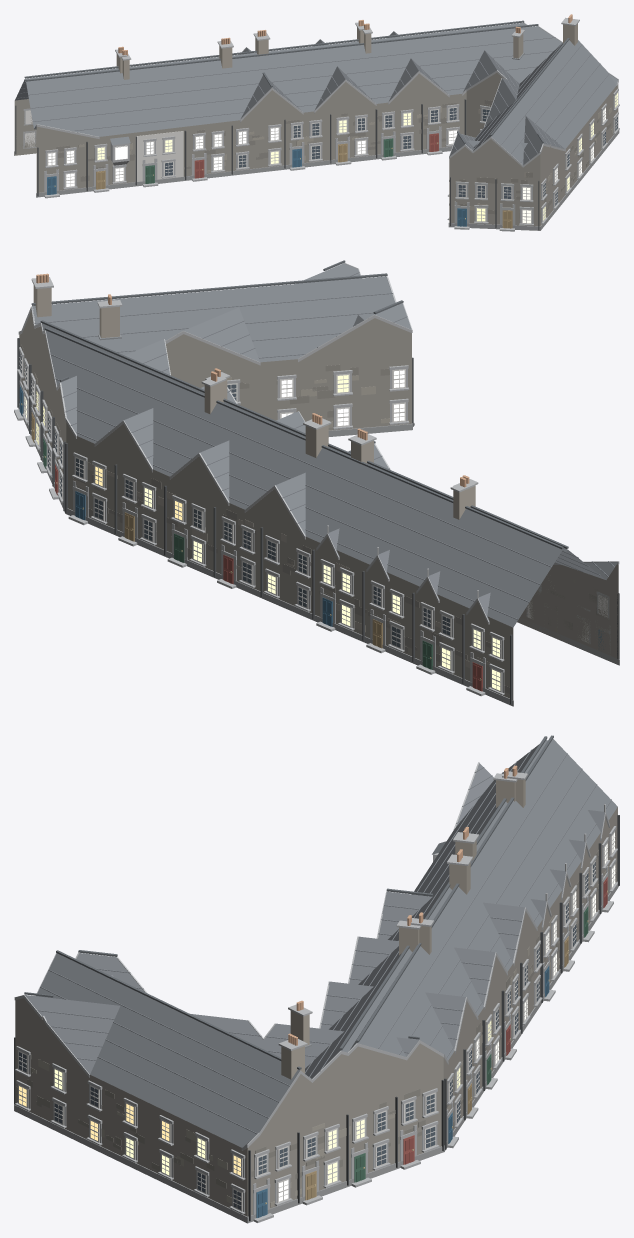
The picture shows the model from 3 angles, top to bottom: view 1: azimuth 30°, elevation 25°; view 2: azimuth 150°, elevation 25°; view 3: azimuth 270°, elevation 25°; orthographic projection. The views are drawn at different scales.
Parts seen in each view (by area): view 1: slate, rubble, dress_dark, frame, windows, slate_lt, slate_dk, plinth, rubble_dk, chim_stone, pipe, harl (+6 smaller); view 2: slate, rubble, dress_dark, frame, windows, slate_dk, slate_lt, plinth, pipe, chim_stone, rubble_dk, rubble_lt; view 3: slate, rubble, dress_dark, frame, windows, slate_lt, plinth, pipe, slate_dk, chim_stone, rubble_dk, rubble_lt.
Boxes of the visible parts, box(x1,y1,x2,y2) form: slate: box(15, 22, 617, 165); rubble: box(14, 73, 618, 226); dress_dark: box(23, 17, 619, 231); frame: box(25, 92, 617, 224); windows: box(48, 93, 617, 223); slate_lt: box(15, 37, 609, 162); slate_dk: box(24, 20, 569, 143); plinth: box(14, 130, 619, 230); rubble_dk: box(19, 100, 611, 217); chim_stone: box(116, 23, 577, 79); pipe: box(15, 99, 539, 229); harl: box(135, 131, 183, 181); slate: box(32, 263, 617, 627); rubble: box(19, 311, 618, 699); dress_dark: box(14, 262, 619, 696); frame: box(19, 352, 607, 692); windows: box(19, 353, 500, 690); slate_dk: box(31, 260, 568, 549); slate_lt: box(34, 272, 614, 619); plinth: box(18, 403, 619, 706); pipe: box(17, 338, 619, 704); chim_stone: box(33, 285, 475, 519); rubble_dk: box(21, 344, 607, 693); rubble_lt: box(24, 373, 574, 667); slate: box(25, 739, 617, 1147); rubble: box(15, 807, 617, 1216); dress_dark: box(14, 762, 617, 1222); frame: box(18, 831, 615, 1211); windows: box(19, 832, 615, 1209); slate_lt: box(37, 749, 611, 1133); plinth: box(14, 881, 618, 1223); pipe: box(14, 815, 619, 1221); slate_dk: box(24, 735, 553, 1069); chim_stone: box(281, 779, 525, 1079); rubble_dk: box(16, 845, 616, 1188); rubble_lt: box(30, 866, 608, 1207).
Size of the model in its own units: 55.89 by 12.52 by 40.23.
